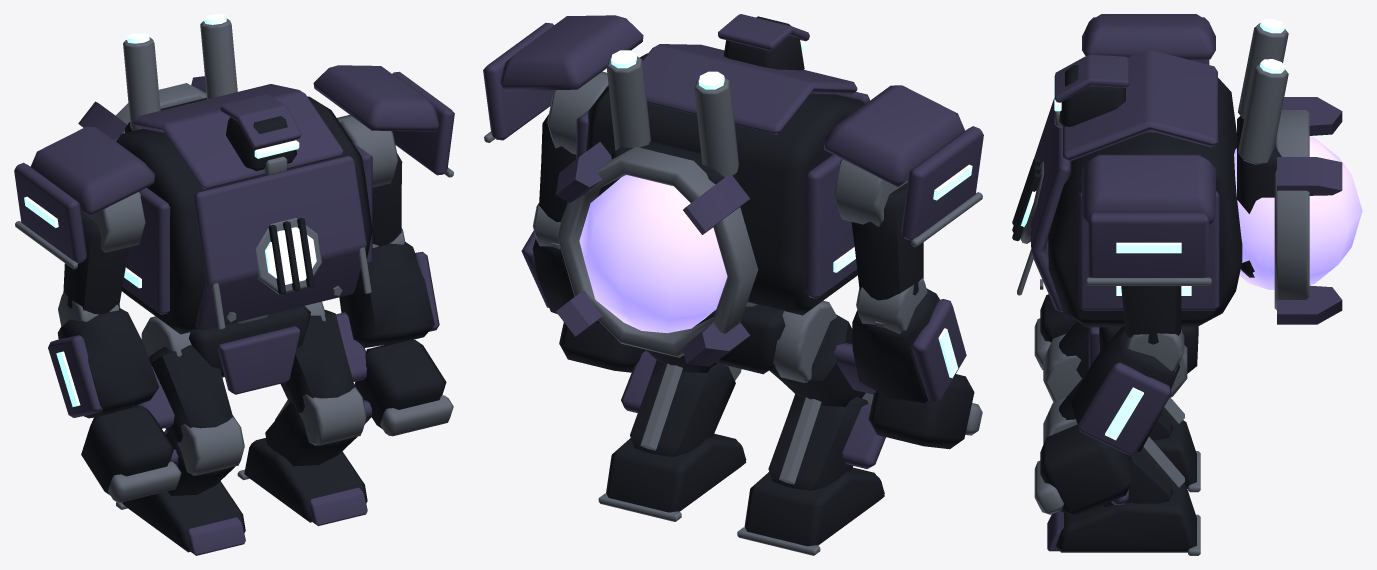
File: enemy_brute.glb
3 renders of one model, left to right at view 1: azimuth 30°, elevation 25°; view 2: azimuth 150°, elevation 25°; view 3: azimuth 270°, elevation 25°, orthographic. The views are drawn at different scales.
Parts seen in each view (by area): view 1: torso, arm_r_upper, arm_r_lower, arm_l_lower, arm_l_upper, leg_r_upper, leg_l_upper, body, leg_l_toe, leg_r_toe, head, leg_l_lower (+1 smaller); view 2: torso, arm_r_upper, weak_1, arm_l_upper, arm_r_lower, leg_l_lower, leg_r_lower, leg_l_toe, leg_r_toe, leg_r_upper, arm_l_lower, head (+2 smaller); view 3: torso, arm_l_upper, arm_l_lower, leg_l_toe, weak_1, arm_r_upper, head, leg_l_lower, leg_r_upper, leg_r_toe, arm_r_lower, leg_l_upper (+2 smaller).
Part boxes in pixels (x1=…): torso: x1=78, y1=14, x2=372, y2=334; arm_r_upper: x1=14, y1=126, x2=155, y2=326; arm_r_lower: x1=48, y1=308, x2=181, y2=502; arm_l_lower: x1=339, y1=242, x2=453, y2=436; arm_l_upper: x1=313, y1=65, x2=454, y2=247; leg_r_upper: x1=135, y1=316, x2=244, y2=475; leg_l_upper: x1=280, y1=301, x2=366, y2=445; body: x1=189, y1=306, x2=310, y2=394; leg_l_toe: x1=237, y1=438, x2=367, y2=526; leg_r_toe: x1=116, y1=481, x2=245, y2=555; head: x1=220, y1=94, x2=301, y2=175; leg_l_lower: x1=265, y1=400, x2=371, y2=466; torso: x1=556, y1=44, x2=869, y2=366; arm_r_upper: x1=823, y1=85, x2=983, y2=333; weak_1: x1=579, y1=175, x2=727, y2=333; arm_l_upper: x1=483, y1=15, x2=643, y2=246; arm_r_lower: x1=852, y1=288, x2=982, y2=449; leg_l_lower: x1=621, y1=350, x2=735, y2=456; leg_r_lower: x1=768, y1=394, x2=885, y2=490; leg_l_toe: x1=598, y1=433, x2=746, y2=521; leg_r_toe: x1=737, y1=467, x2=884, y2=555; leg_r_upper: x1=769, y1=300, x2=876, y2=406; arm_l_lower: x1=521, y1=230, x2=645, y2=372; head: x1=718, y1=14, x2=809, y2=70; torso: x1=1012, y1=18, x2=1342, y2=327; arm_l_upper: x1=1082, y1=154, x2=1215, y2=371; arm_l_lower: x1=1034, y1=326, x2=1179, y2=516; leg_l_toe: x1=1047, y1=484, x2=1200, y2=555; weak_1: x1=1234, y1=136, x2=1362, y2=289; arm_r_upper: x1=1082, y1=14, x2=1215, y2=64; head: x1=1054, y1=54, x2=1128, y2=127; leg_l_lower: x1=1103, y1=437, x2=1184, y2=507; leg_r_upper: x1=1043, y1=321, x2=1088, y2=401; leg_r_toe: x1=1152, y1=420, x2=1200, y2=492; arm_r_lower: x1=1034, y1=294, x2=1076, y2=369; leg_l_upper: x1=1043, y1=345, x2=1187, y2=443.
Bounding box in the file's own units: 1.92 × 2.04 × 1.39.
